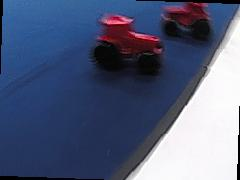Tracktor: (90, 10, 165, 71), (160, 2, 211, 40)
